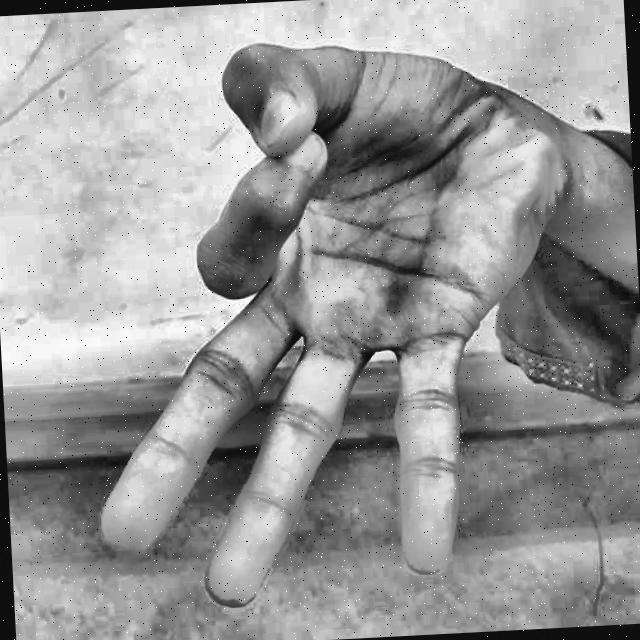Fa: (44, 10, 605, 640)
